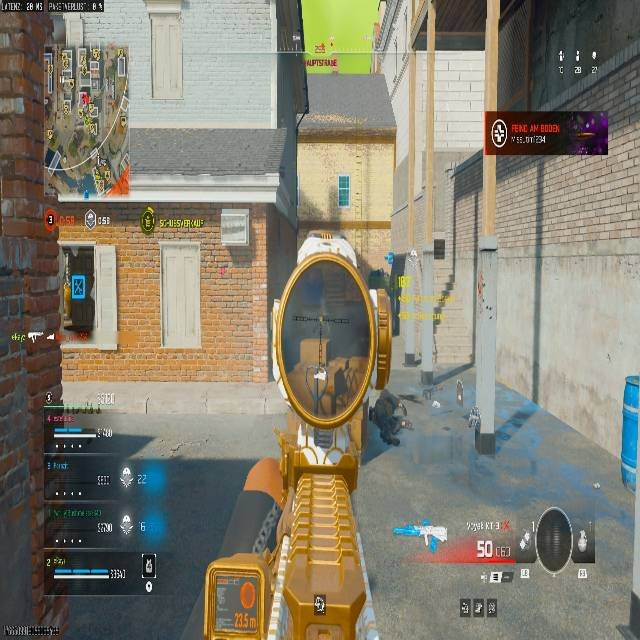player: (369, 388, 411, 447)
